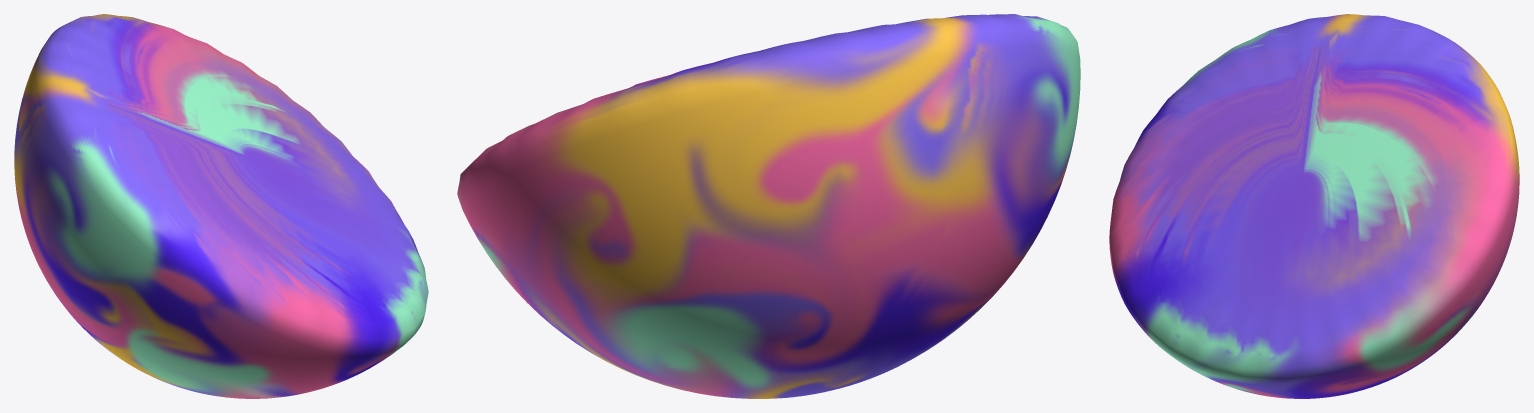
The model's file is blob8.gltf.
3 renders of one model, left to right at view 1: azimuth 30°, elevation 25°; view 2: azimuth 150°, elevation 25°; view 3: azimuth 270°, elevation 25°, orthographic. The views are drawn at different scales.
Visible parts, largest first — view 1: Sphere; view 2: Sphere; view 3: Sphere.
Boxes of the visible parts, x1=… form: Sphere: x1=14, y1=14, x2=428, y2=398; Sphere: x1=457, y1=14, x2=1080, y2=398; Sphere: x1=1109, y1=14, x2=1519, y2=398.
Size of the model in its own units: 0.1784 by 0.1462 by 0.1852.
1 material, 1 textured.
